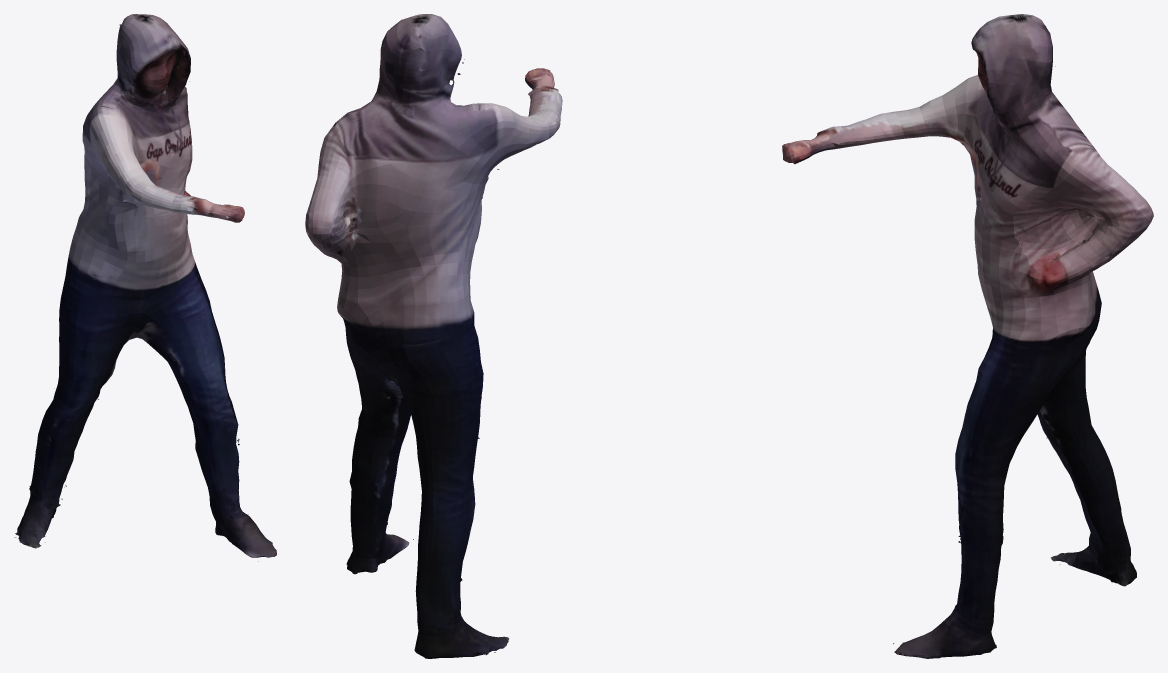
Rendered from AB-2punch_0000039.obj.
3 renders of one model, left to right at view 1: azimuth 30°, elevation 25°; view 2: azimuth 150°, elevation 25°; view 3: azimuth 270°, elevation 25°, orthographic. The views are drawn at different scales.
Parts seen in each view (by area): view 1: Retopo_frame_0000039_mesh; view 2: Retopo_frame_0000039_mesh; view 3: Retopo_frame_0000039_mesh.
Boxes of the visible parts, x1,y1,x2,y2 form: Retopo_frame_0000039_mesh: (14,14,276,561); Retopo_frame_0000039_mesh: (305,14,562,658); Retopo_frame_0000039_mesh: (782,14,1153,658).
Bounding box in the file's own units: 0.6717 × 1.77 × 1.2.
Materials: 1 (1 with a texture image).
